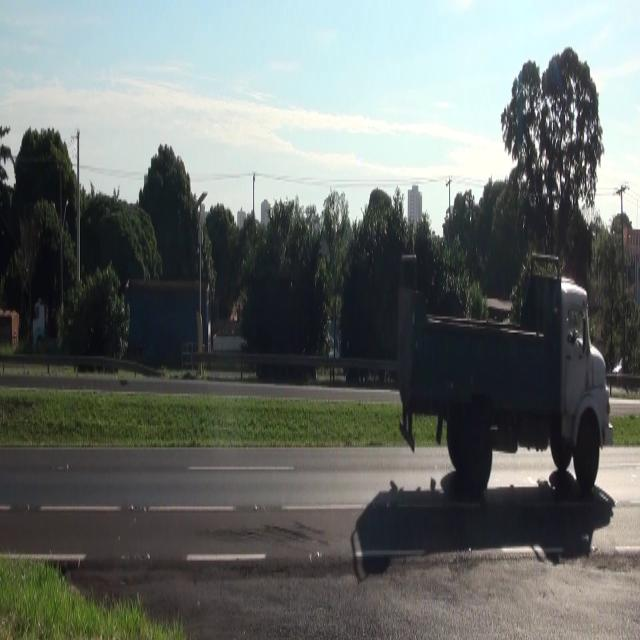-axle: (460, 413, 495, 494), (574, 408, 602, 494)
